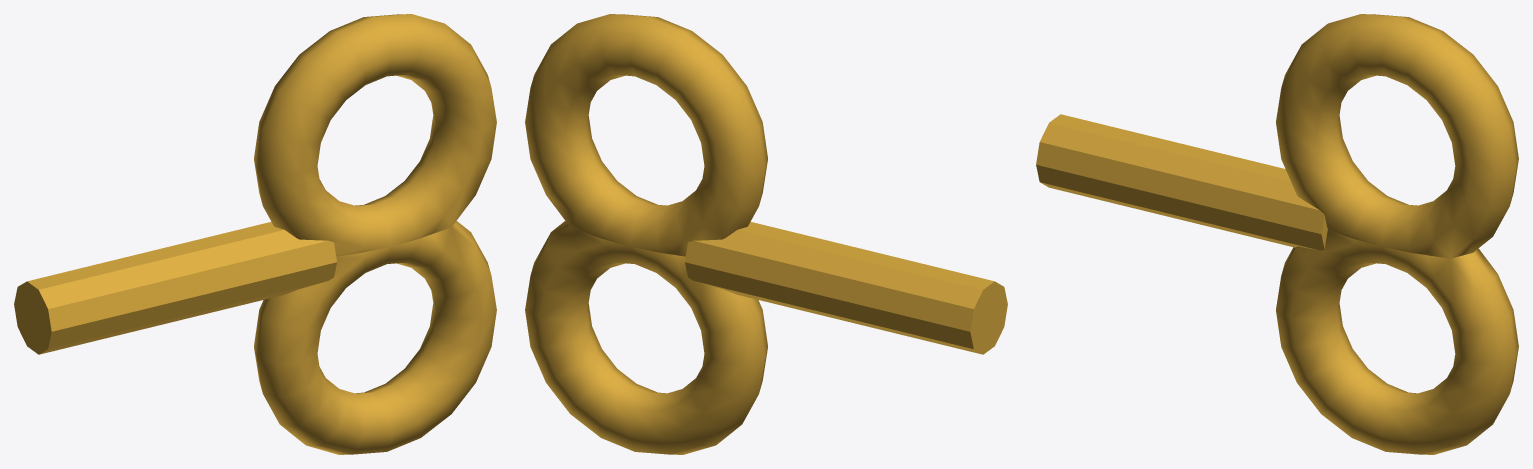
File: WindUpKey.fbx
3 renders of one model, left to right at view 1: azimuth 30°, elevation 25°; view 2: azimuth 150°, elevation 25°; view 3: azimuth 330°, elevation 25°, orthographic.
Visible parts, largest first — view 1: WindUpKey_Handle, WindUpKey_Shaft; view 2: WindUpKey_Handle, WindUpKey_Shaft; view 3: WindUpKey_Handle, WindUpKey_Shaft.
Part boxes in pixels (box(x1,y1,x2,y2)): WindUpKey_Handle: box(254, 14, 496, 454); WindUpKey_Shaft: box(14, 221, 336, 354); WindUpKey_Handle: box(525, 14, 767, 454); WindUpKey_Shaft: box(685, 221, 1007, 354); WindUpKey_Handle: box(1276, 14, 1518, 454); WindUpKey_Shaft: box(1036, 114, 1327, 250).
Size of the model in its own units: 0.0565 by 0.051 by 0.008.
